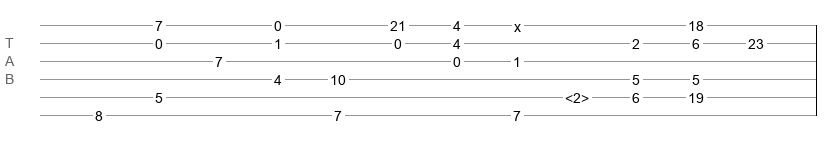0: (155, 36, 163, 46), (274, 18, 282, 28), (394, 36, 402, 46), (453, 54, 461, 64)
1: (274, 36, 282, 46), (513, 54, 521, 64)
10: (330, 72, 346, 82)
18: (688, 18, 704, 28)
19: (688, 90, 704, 100)
2: (632, 36, 640, 46)
21: (390, 18, 406, 28)
23: (748, 36, 764, 46)
4: (274, 72, 282, 82), (453, 36, 461, 46), (453, 18, 461, 28)
5: (155, 90, 163, 100), (632, 72, 640, 82), (692, 72, 700, 82)
6: (632, 90, 640, 100), (692, 36, 700, 46)
7: (155, 18, 163, 28), (215, 54, 223, 64), (334, 108, 342, 118), (513, 108, 521, 118)
8: (95, 108, 103, 118)
harmonic: (565, 90, 589, 100)
x: (514, 19, 521, 27)
